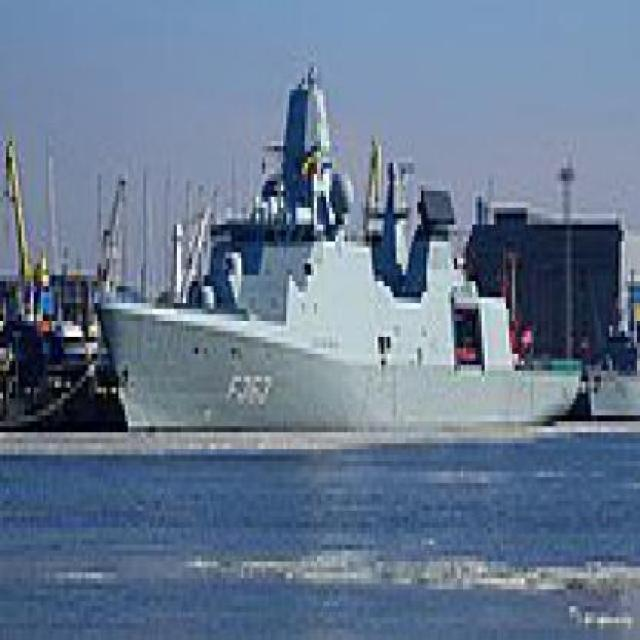warship2: (93, 35, 611, 439)
